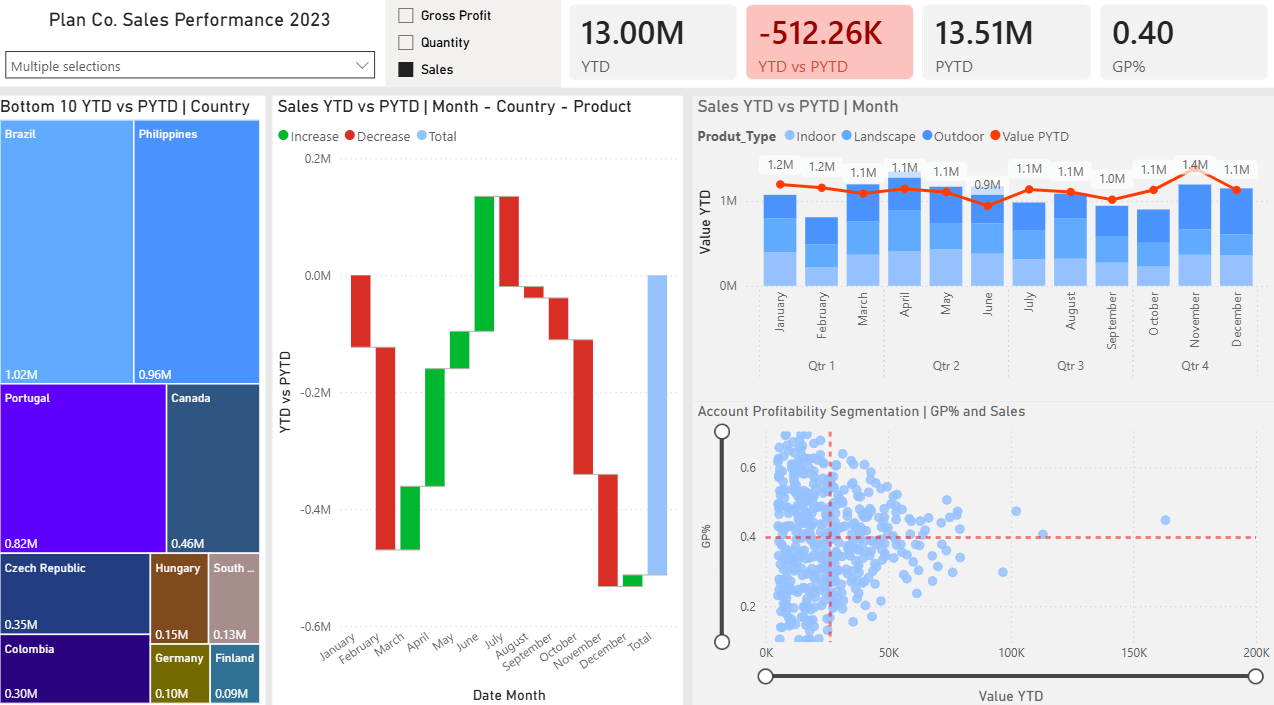

The page's visual inventory and layout, read from the dashboard file:
{"tool":"powerbi","page":{"name":"Performance Report","canvas":[1280,720],"ordinal":0},"visuals":[{"type":"cardVisual","fields":{"Data":["_Measures.S_YTD","_Measures.YTD vs PYTD","_Measures.S_PYTD","_Measures.GP%"]},"box":[565.7,0,714.3,90],"z":0},{"type":"slicer","fields":{"Values":["Slc_values.Value"]},"box":[390,0,175.7,90],"z":1000},{"type":"slicer","fields":{"Values":["Dim_Date.Date.Variation.Date Hierarchy.Year"]},"box":[0,44.3,390,45.7],"z":2000},{"type":"treemap","title":"Bottom 10 YTD vs PYTD | Country","fields":{"Values":["_Measures.S_YTD"],"Group":["Dim_Account.country"]},"box":[0,98.6,270,612.9],"z":3000},{"type":"waterfallChart","fields":{"Y":["_Measures.YTD vs PYTD"],"Category":["Dim_Date.Date.Variation.Date Hierarchy.Month","Dim_Account.country"]},"box":[277.8,98.9,410,612.2],"z":4000},{"type":"lineStackedColumnComboChart","fields":{"Y":["_Measures.S_YTD"],"Y2":["_Measures.S_PYTD"],"Category":["Dim_Date.Date.Variation.Date Hierarchy.Quarter","Dim_Date.Date.Variation.Date Hierarchy.Month"],"Series":["Dim_Product.Produt_Type"]},"box":[697.5,99.2,582.5,305.8],"z":5000},{"type":"scatterChart","fields":{"Y":["_Measures.GP%"],"X":["_Measures.S_YTD"],"Category":["Dim_Account.Account"]},"box":[697.5,405,582.5,306.2],"z":5001},{"type":"card","fields":{"Values":["_Measures._Report title"]},"box":[0,0,390,44.3],"z":5002}]}

Visuals, with their boxes in screenshot pixels (x1, y1, x2, y2), scaled from the page's 1280x720 canvas onto the 1274x705 screenshot:
cardVisual - _Measures.S_YTD x _Measures.YTD vs PYTD: 563,0,1273,88
slicer - Slc_values.Value: 388,0,563,88
slicer - Dim_Date.Date.Variation.Date Hierarchy.Year: 0,43,388,88
"Bottom 10 YTD vs PYTD | Country" treemap: 0,97,269,697
waterfallChart - _Measures.YTD vs PYTD x Dim_Date.Date.Variation.Date Hierarchy.Month: 276,97,685,696
lineStackedColumnComboChart - _Measures.S_YTD x _Measures.S_PYTD: 694,97,1273,397
scatterChart - _Measures.GP% x _Measures.S_YTD: 694,397,1273,696
card - _Measures._Report title: 0,0,388,43
